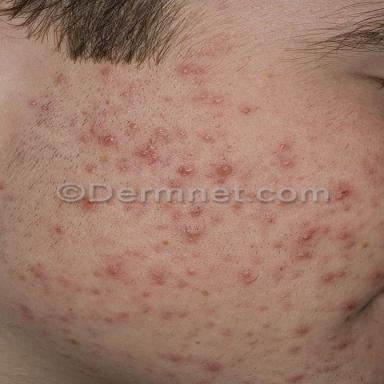acne: (186, 224, 205, 242), (138, 145, 159, 161), (150, 128, 171, 143), (29, 263, 46, 278), (298, 229, 315, 244), (149, 269, 165, 284), (239, 271, 257, 284), (216, 164, 233, 177), (205, 361, 223, 372), (180, 67, 205, 74), (178, 165, 195, 175), (107, 263, 121, 275), (288, 374, 306, 383), (99, 135, 115, 145), (335, 188, 349, 199), (321, 274, 335, 285), (296, 250, 312, 259), (371, 271, 384, 282), (190, 206, 203, 217), (280, 157, 294, 167), (55, 75, 69, 85), (365, 164, 377, 175), (295, 325, 308, 335), (203, 133, 215, 143), (343, 302, 357, 310), (85, 163, 96, 173), (101, 67, 111, 76), (339, 232, 350, 240), (80, 135, 91, 143), (337, 343, 351, 349), (54, 226, 64, 234), (211, 97, 224, 103), (163, 311, 172, 319), (170, 181, 180, 188), (20, 305, 30, 312), (273, 241, 282, 248), (142, 306, 151, 313), (280, 143, 290, 149), (171, 355, 181, 361), (187, 269, 197, 275), (178, 131, 186, 138), (105, 317, 114, 323), (217, 178, 225, 184), (242, 108, 251, 113), (367, 341, 372, 350), (265, 217, 272, 223), (41, 106, 49, 111), (129, 123, 137, 128), (282, 293, 290, 298), (61, 317, 69, 322), (200, 94, 207, 99), (344, 316, 351, 321), (234, 204, 241, 209), (31, 101, 37, 106), (207, 174, 213, 178)
